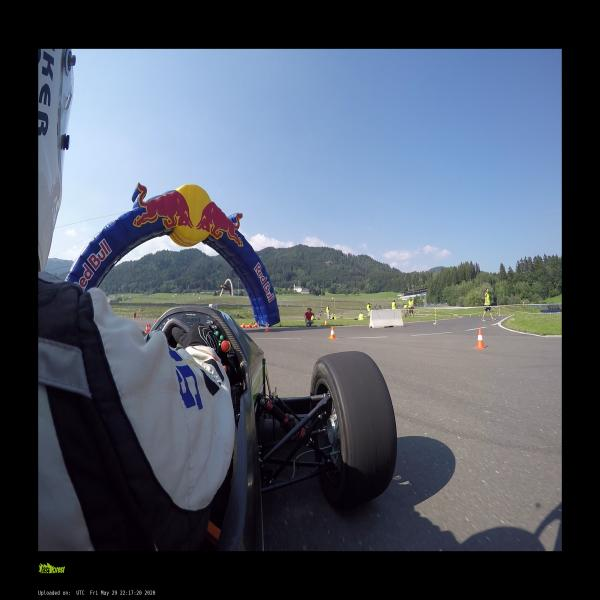orange_cone: (475, 328, 486, 349), (328, 326, 336, 340), (239, 323, 249, 328), (238, 323, 246, 329), (265, 324, 270, 332), (323, 319, 328, 326), (145, 323, 148, 332), (253, 322, 258, 327), (248, 323, 252, 328), (148, 323, 150, 331), (139, 317, 142, 321), (132, 316, 135, 320), (154, 318, 156, 322)
